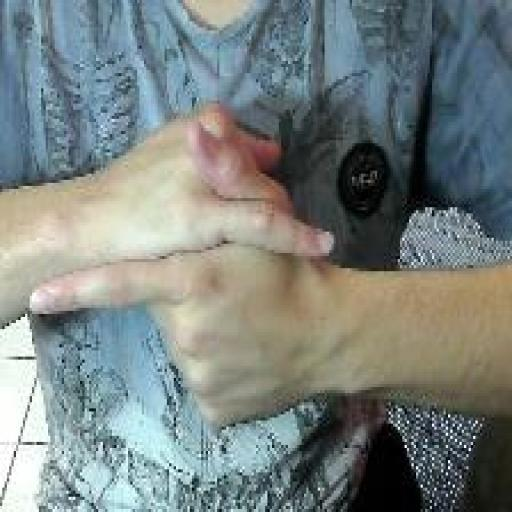U -hare-: (28, 96, 338, 434)
